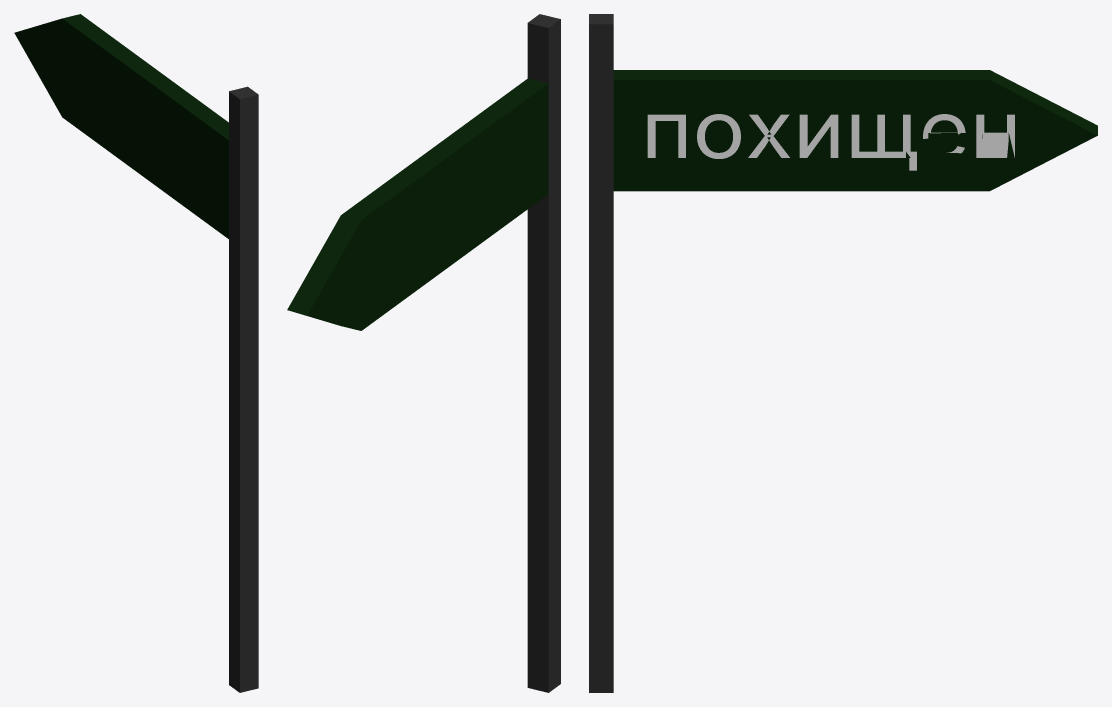
The model's file is RoadSign.glb.
The picture shows the model from 3 angles, left to right: view 1: azimuth 30°, elevation 25°; view 2: azimuth 150°, elevation 25°; view 3: azimuth 270°, elevation 25°; orthographic projection. The views are drawn at different scales.
Parts seen in each view (by area): view 1: Cube.001, Cube; view 2: Cube.001, Cube; view 3: Cube.001, Cube, Text.
Boxes of the visible parts, box(x1,y1,x2,y2) form: Cube.001: box(14, 14, 228, 238); Cube: box(229, 86, 258, 692); Cube.001: box(287, 78, 548, 330); Cube: box(527, 14, 560, 692); Cube.001: box(613, 70, 1097, 191); Cube: box(589, 14, 613, 692); Text: box(647, 114, 1014, 170).
Size of the model in its own units: 0.201 by 6 by 4.14.
